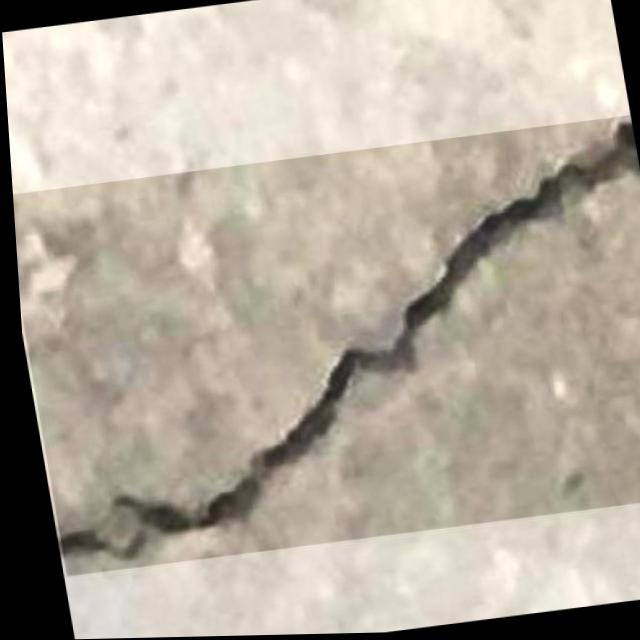Crack: (7, 116, 640, 574)
